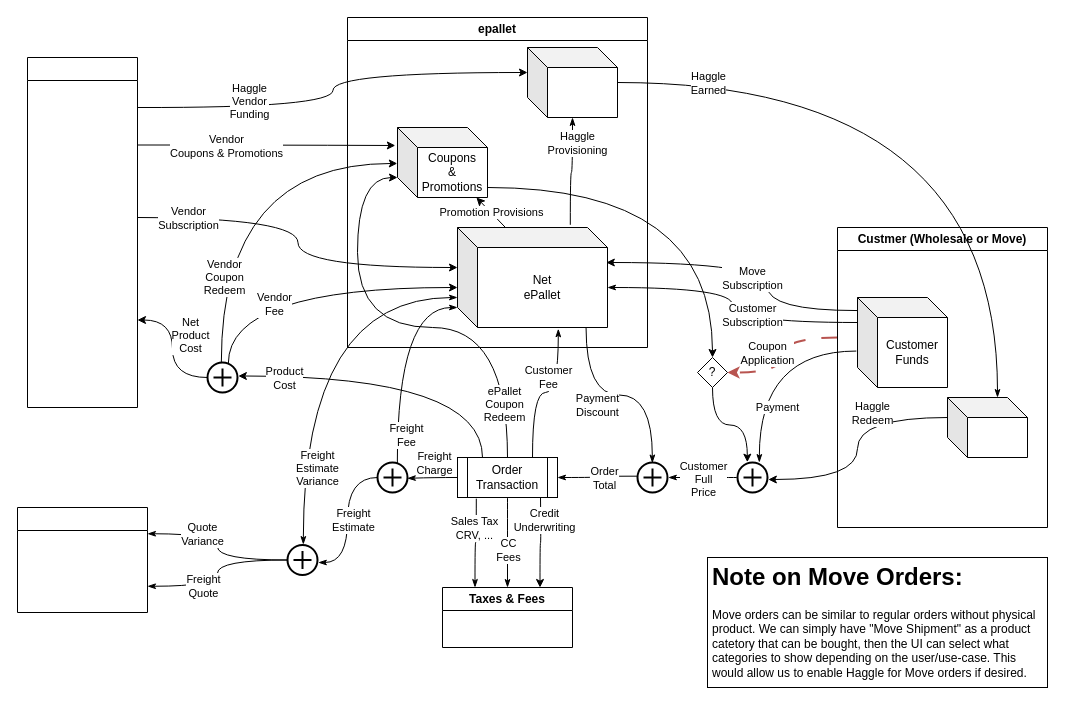
This 1065x705 diagram has some shape labels left out. Here are the shapes that lost their labels. From the top down, the centre of each, then its label:
pixel 572 82: Haggle Reserves
pixel 82 232: Vendor
pixel 987 427: Haggle Wallet
pixel 82 559: Carrier
